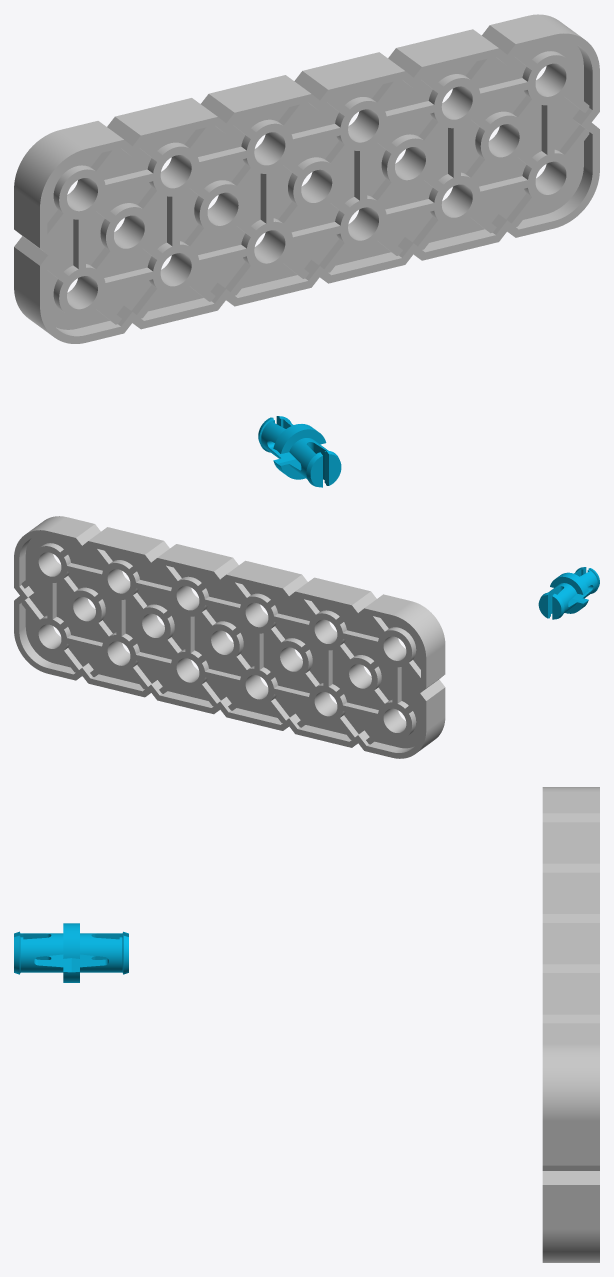
The model's file is pin_beam.glb.
The picture shows the model from 3 angles, top to bottom: view 1: azimuth 30°, elevation 25°; view 2: azimuth 150°, elevation 25°; view 3: azimuth 270°, elevation 25°; orthographic projection. The views are drawn at different scales.
Parts seen in each view (by area): view 1: occurrence of 228-2500-021, 228-2500-060 Rev5; view 2: occurrence of 228-2500-021, 228-2500-060 Rev5; view 3: occurrence of 228-2500-021, 228-2500-060 Rev5.
Part boxes in pixels (x1,y1,x2,y2): occurrence of 228-2500-021: [14, 14, 599, 343]; 228-2500-060 Rev5: [258, 416, 341, 487]; occurrence of 228-2500-021: [14, 516, 445, 758]; 228-2500-060 Rev5: [538, 567, 599, 619]; occurrence of 228-2500-021: [542, 787, 599, 1262]; 228-2500-060 Rev5: [14, 923, 128, 982].
Size of the model in its own units: 0.0759 by 0.0251 by 0.0625.
